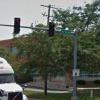Traffic light: (9, 11, 58, 41)
